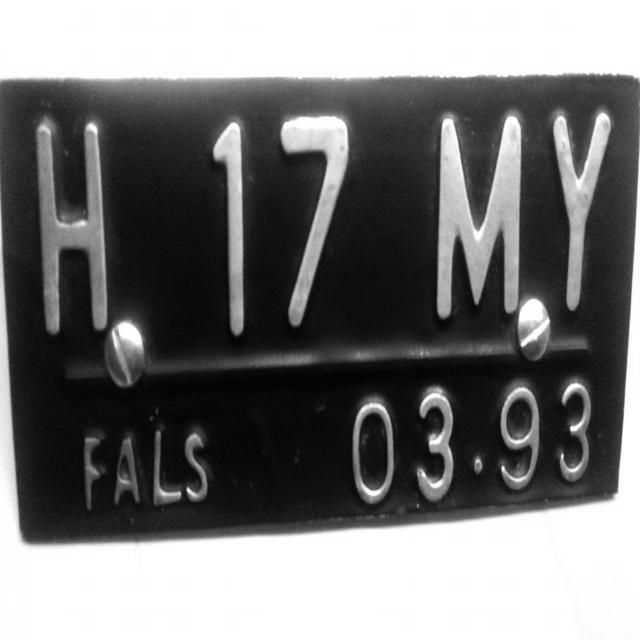1: (198, 120, 264, 336)
7: (263, 114, 353, 336)
H: (10, 93, 120, 350)
M: (430, 108, 530, 324)
Y: (530, 102, 622, 323)
